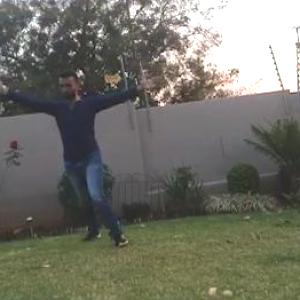takeoff: (1, 65, 162, 253)
